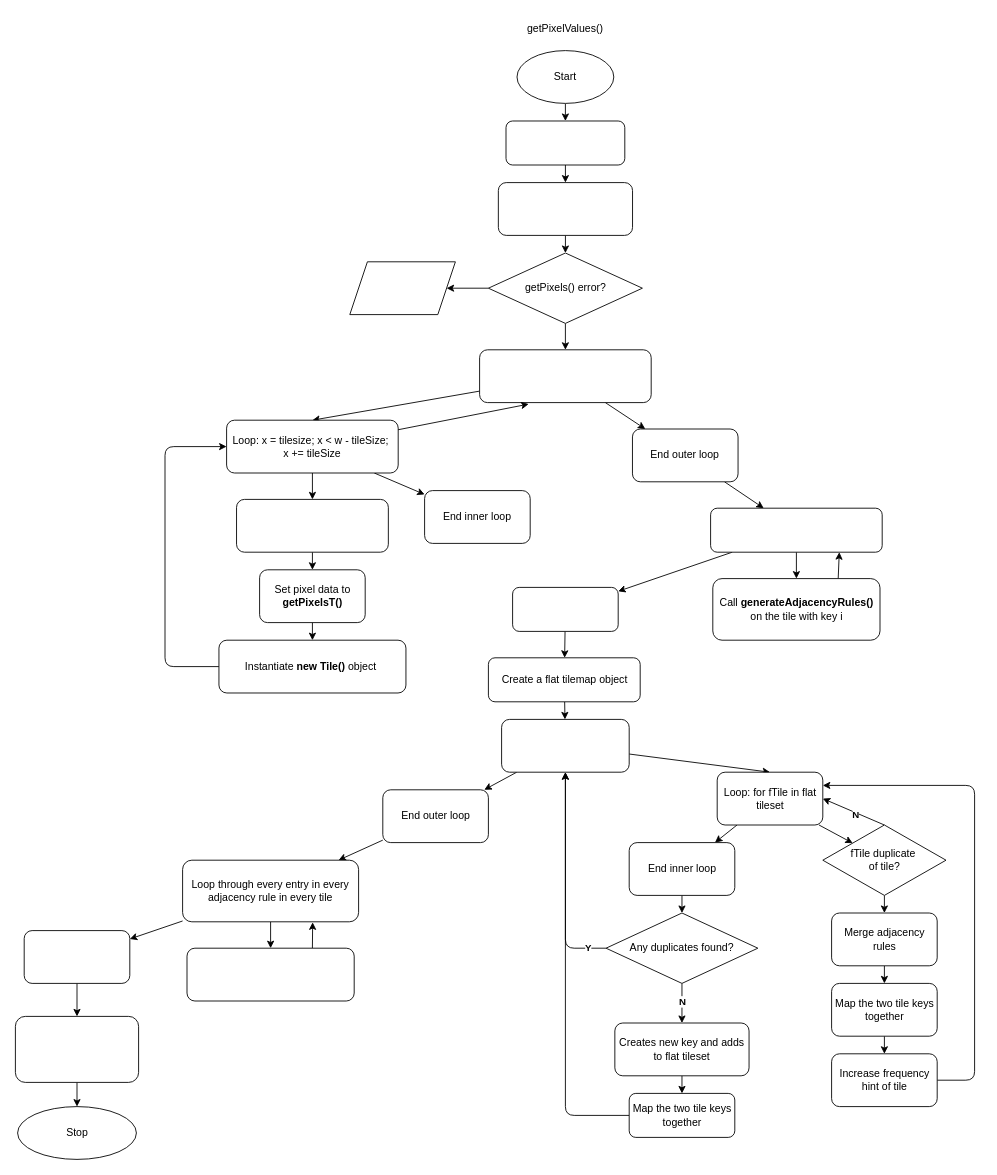
Some shapes in this 997 by 1175 pixel diagram are drawn without their labels. Here are the shapes that lost their labels. From the top down, the centre of each, then its label:
At point 565,142: "Create new Promise".
At point 565,208: "set var pixelvals to data from getPixels()".
At point 402,288: "Throw Error".
At point 565,376: "Loop: y = tilesize; y < h - tileSize; y += tileSize".
At point 312,525: "Generate tilekey (k value): k = tileset length + 1".
At point 796,529: "Loop: i = 1; i < tile set length; i++".
At point 565,609: "End loop".
At point 565,745: "Loop: for tile in tileset".
At point 76,956: "End loops".
At point 270,974: "Update the tile keys using the mapping object".
At point 77,1049: "Resolve with the flat tileset".
